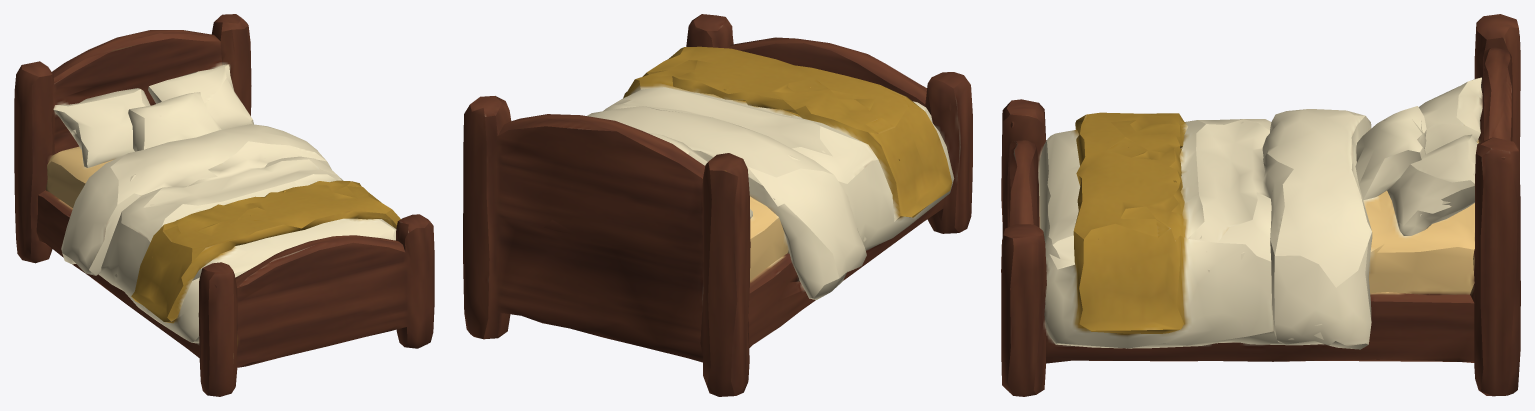
Rendered from bed.glb.
3 renders of one model, left to right at view 1: azimuth 30°, elevation 25°; view 2: azimuth 150°, elevation 25°; view 3: azimuth 270°, elevation 25°, orthographic. The views are drawn at different scales.
Visible parts, largest first — view 1: world; view 2: world; view 3: world.
Boxes of the visible parts, <box> form: world: <box>14,14,434,396</box>; world: <box>463,14,972,396</box>; world: <box>1001,14,1520,396</box>.
Size of the model in its own units: 2.1 by 1.52 by 2.78.
1 material, 1 textured.
